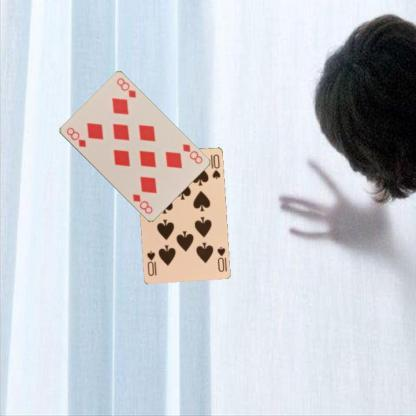10s: (214, 244, 226, 273)
8d: (63, 124, 88, 148), (180, 142, 203, 165)
